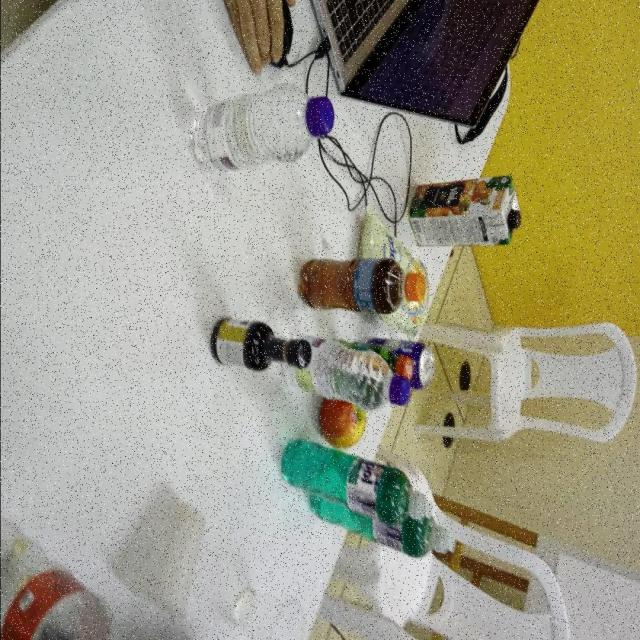Apple: (317, 399, 370, 452)
Cleaner: (280, 439, 431, 525), (309, 501, 455, 557)
CornFlakes: (357, 209, 429, 341)
EnglishSauce: (212, 319, 311, 371)
IceTea: (296, 258, 426, 317)
Tonic: (367, 337, 434, 389)
Water: (187, 82, 333, 173), (293, 338, 409, 410)
